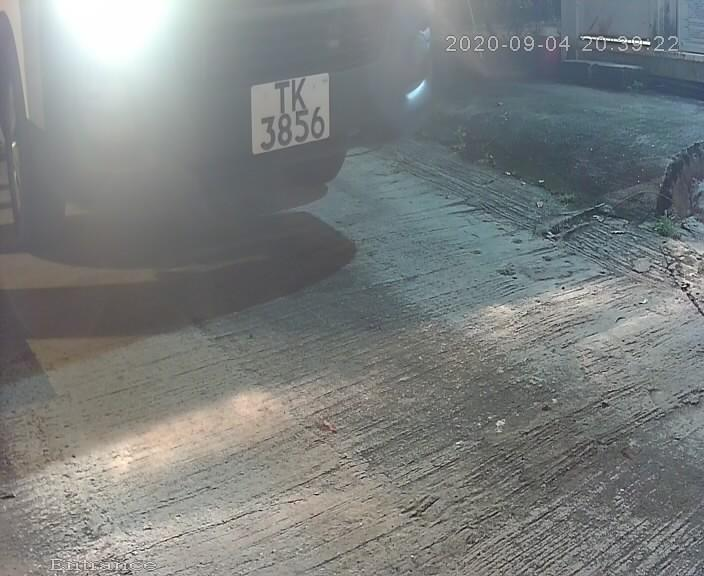License Plate: (236, 52, 340, 173)
